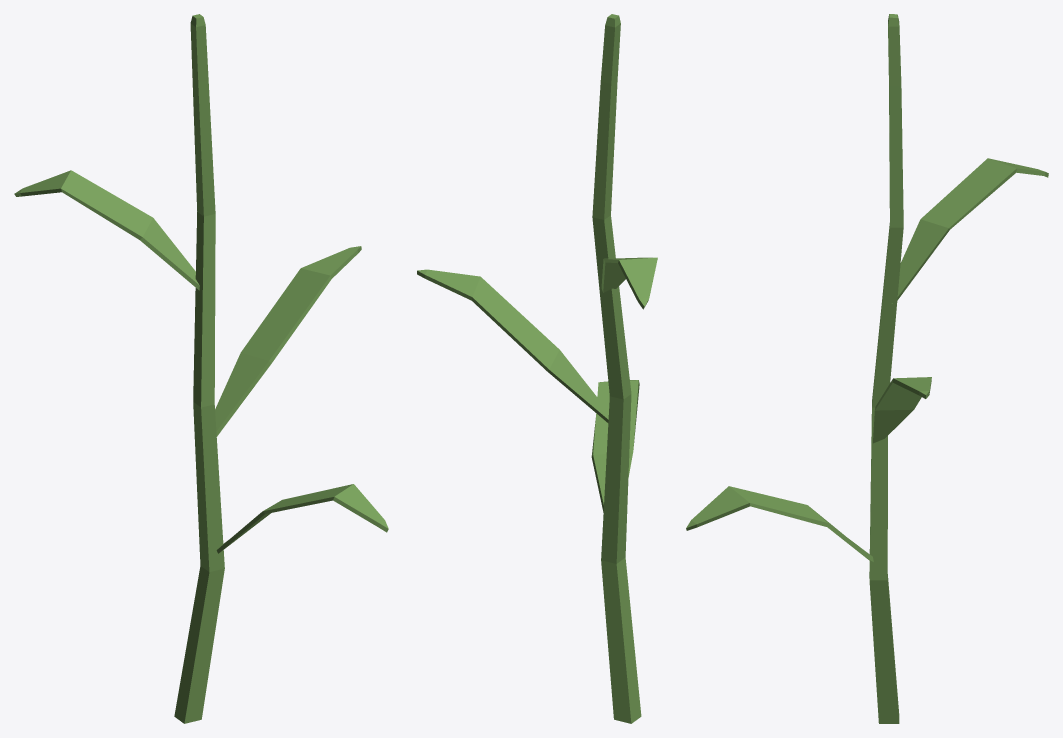
The model's file is Corn_2.glb.
The picture shows the model from 3 angles, left to right: view 1: azimuth 30°, elevation 25°; view 2: azimuth 150°, elevation 25°; view 3: azimuth 270°, elevation 25°; orthographic projection.
Visible parts, largest first — view 1: Corn_2; view 2: Corn_2; view 3: Corn_2.
Boxes of the visible parts, x1,y1,x2,y2 form: Corn_2: (14,14,388,723); Corn_2: (417,14,657,723); Corn_2: (686,14,1048,723).
Size of the model in its own units: 0.2837 by 0.6587 by 0.3051.
